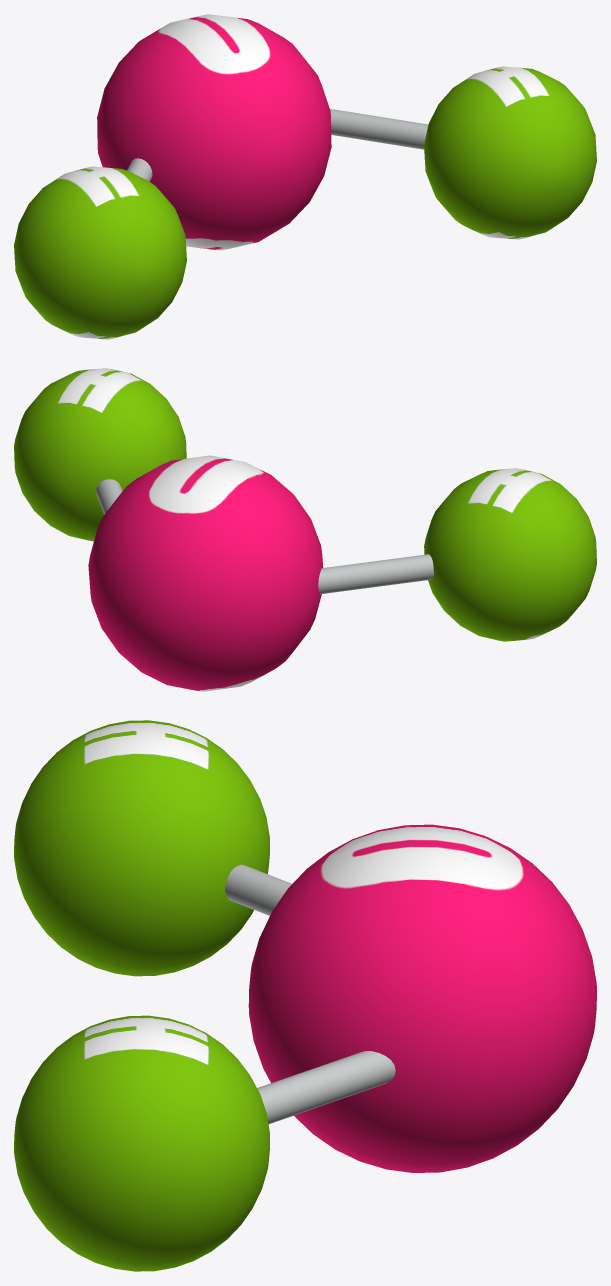
Rendered from SM_Molecule_5.fbx.
3 views of the same model, one above another, from view 1: azimuth 30°, elevation 25°; view 2: azimuth 150°, elevation 25°; view 3: azimuth 270°, elevation 25° (orthographic). The views are drawn at different scales.
Parts seen in each view (by area): view 1: SM_Molecule_5; view 2: SM_Molecule_5; view 3: SM_Molecule_5.
Part boxes in pixels (x1=…): SM_Molecule_5: x1=14, y1=14, x2=596, y2=339; SM_Molecule_5: x1=14, y1=368, x2=596, y2=691; SM_Molecule_5: x1=14, y1=720, x2=596, y2=1271.
Size of the model in its own units: 151 by 54.65 by 92.29.
3 materials, 3 textured.
